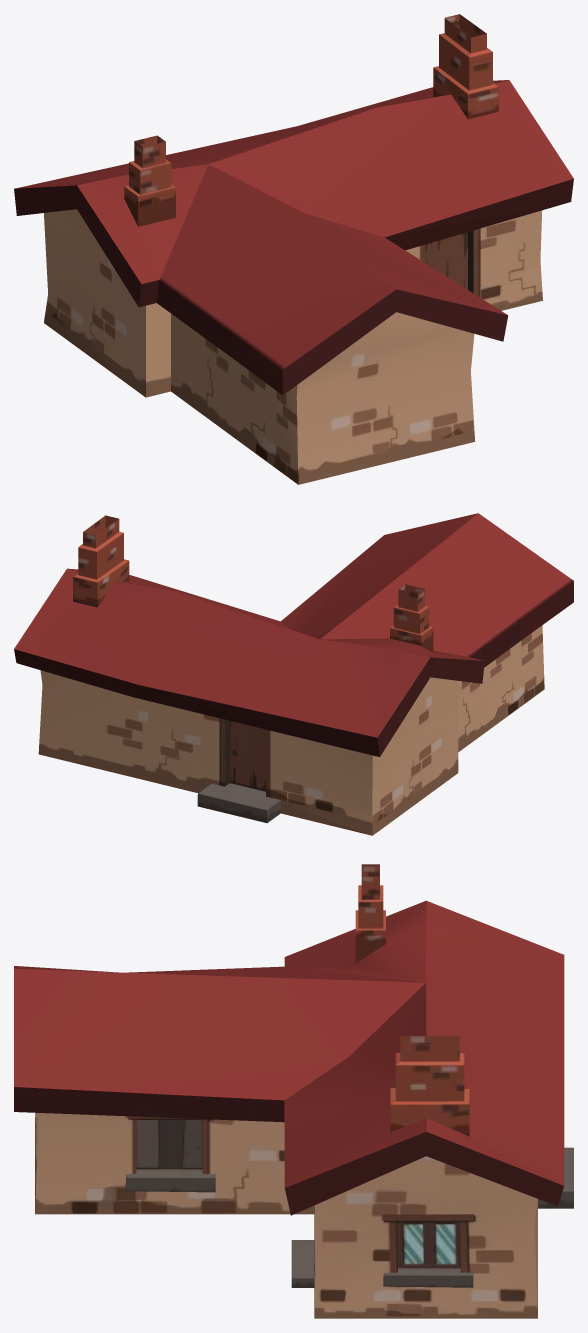
File: farm_house_01.glb
3 renders of one model, top to bottom at view 1: azimuth 30°, elevation 25°; view 2: azimuth 150°, elevation 25°; view 3: azimuth 270°, elevation 25°, orthographic. The views are drawn at different scales.
Visible parts, largest first — view 1: farm:farm_house; view 2: farm:farm_house; view 3: farm:farm_house.
Part boxes in pixels (bbox=[...]): farm:farm_house: bbox=[14, 14, 573, 484]; farm:farm_house: bbox=[14, 513, 573, 835]; farm:farm_house: bbox=[14, 864, 573, 1318].
Bounding box in the file's own units: 10.97 × 5.88 × 11.23.
1 material, 1 textured.
